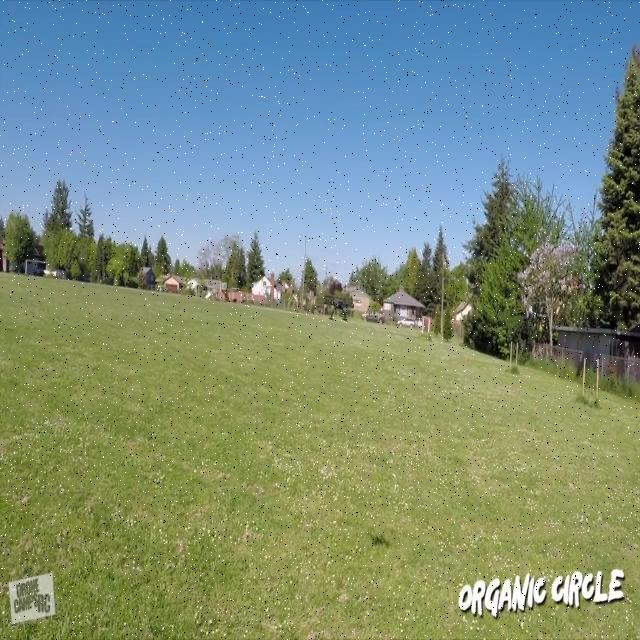UAV: (324, 296, 362, 322)
